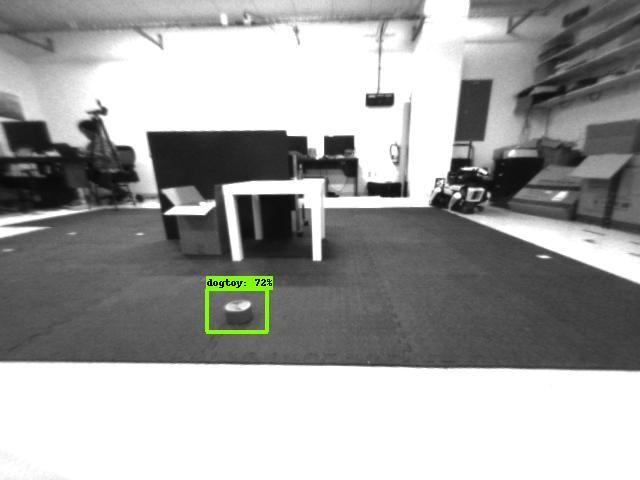dogtoy: (203, 288, 257, 331)
